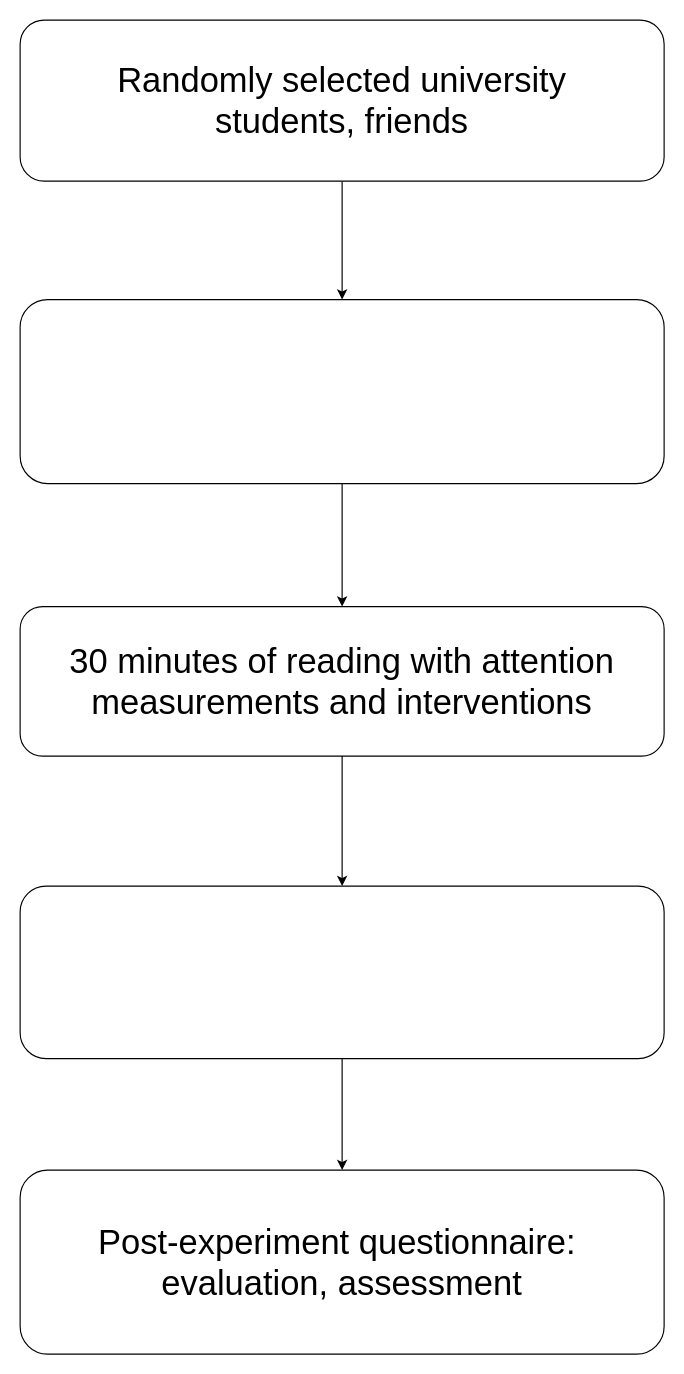
This 684x1374 diagram has some shape labels left out. The shapes that lost their labels are listed below. From the top down, each one's centre as x and y in pixels, then its label:
At (341,391): "Pre-experiment questionnaire: english level, habits, goals".
At (341,972): "Reading questionnaire: progress and comprehension".
